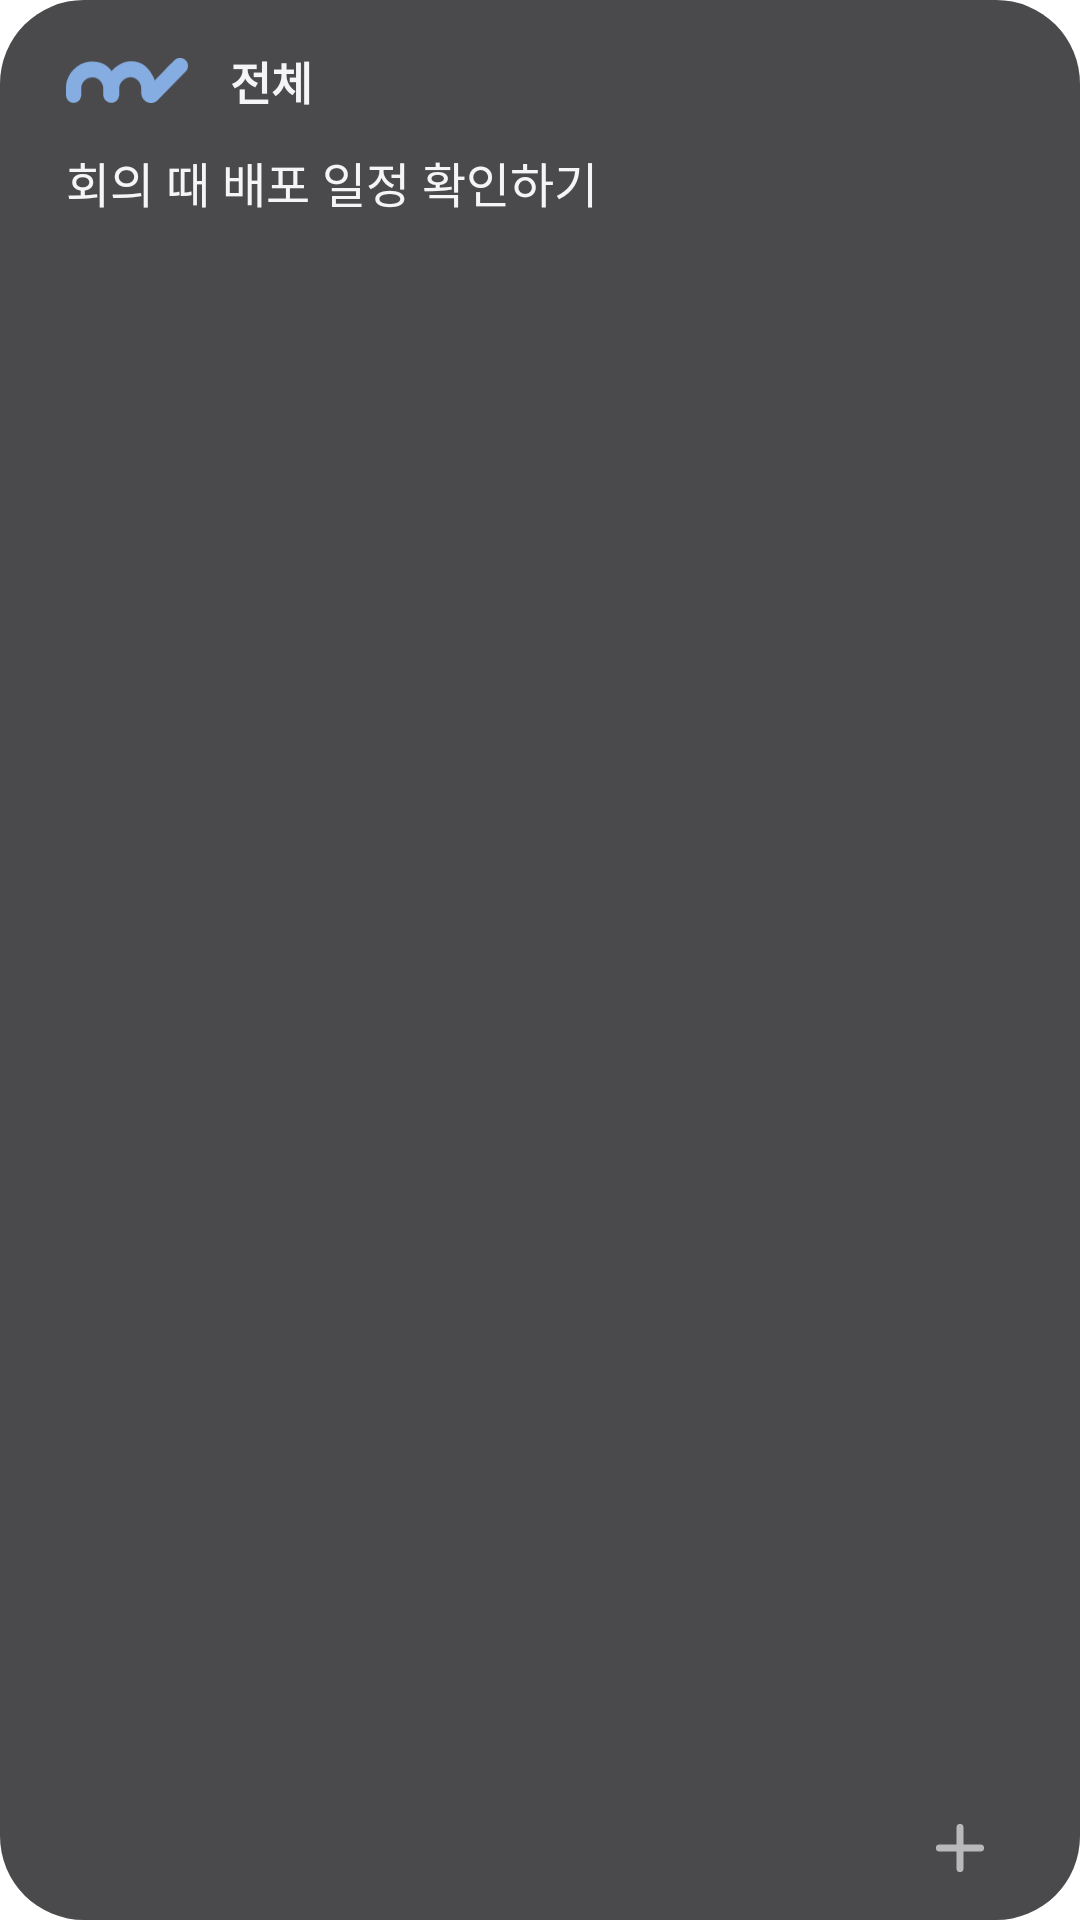

Locate icon controls on the screen. Image size 1080px x 1920px, boxes as Rect(x1, y1, x2, y2).
naegirok add: Rect(936, 1824, 984, 1872)
